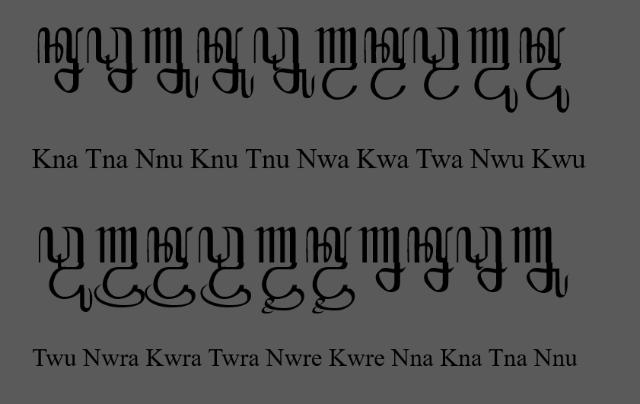Kn: (37, 26, 84, 94), (408, 225, 454, 293)
Knu: (196, 26, 254, 100)
Kw: (364, 26, 411, 100)
Kwr: (144, 226, 196, 308)
Kwre: (306, 227, 356, 315)
Kwu: (518, 26, 570, 114)
Nn: (356, 227, 406, 294)
Nnu: (139, 27, 199, 99), (509, 226, 569, 298)
Nw: (314, 27, 358, 101)
Nwr: (92, 227, 146, 309)
Nwre: (253, 226, 305, 314)
Nwu: (466, 26, 518, 113)
Tn: (86, 26, 138, 94), (456, 226, 508, 292)
Tnu: (254, 26, 316, 100)
Tw: (412, 26, 460, 100)
Twr: (198, 226, 252, 308)
Twu: (38, 225, 92, 313)
